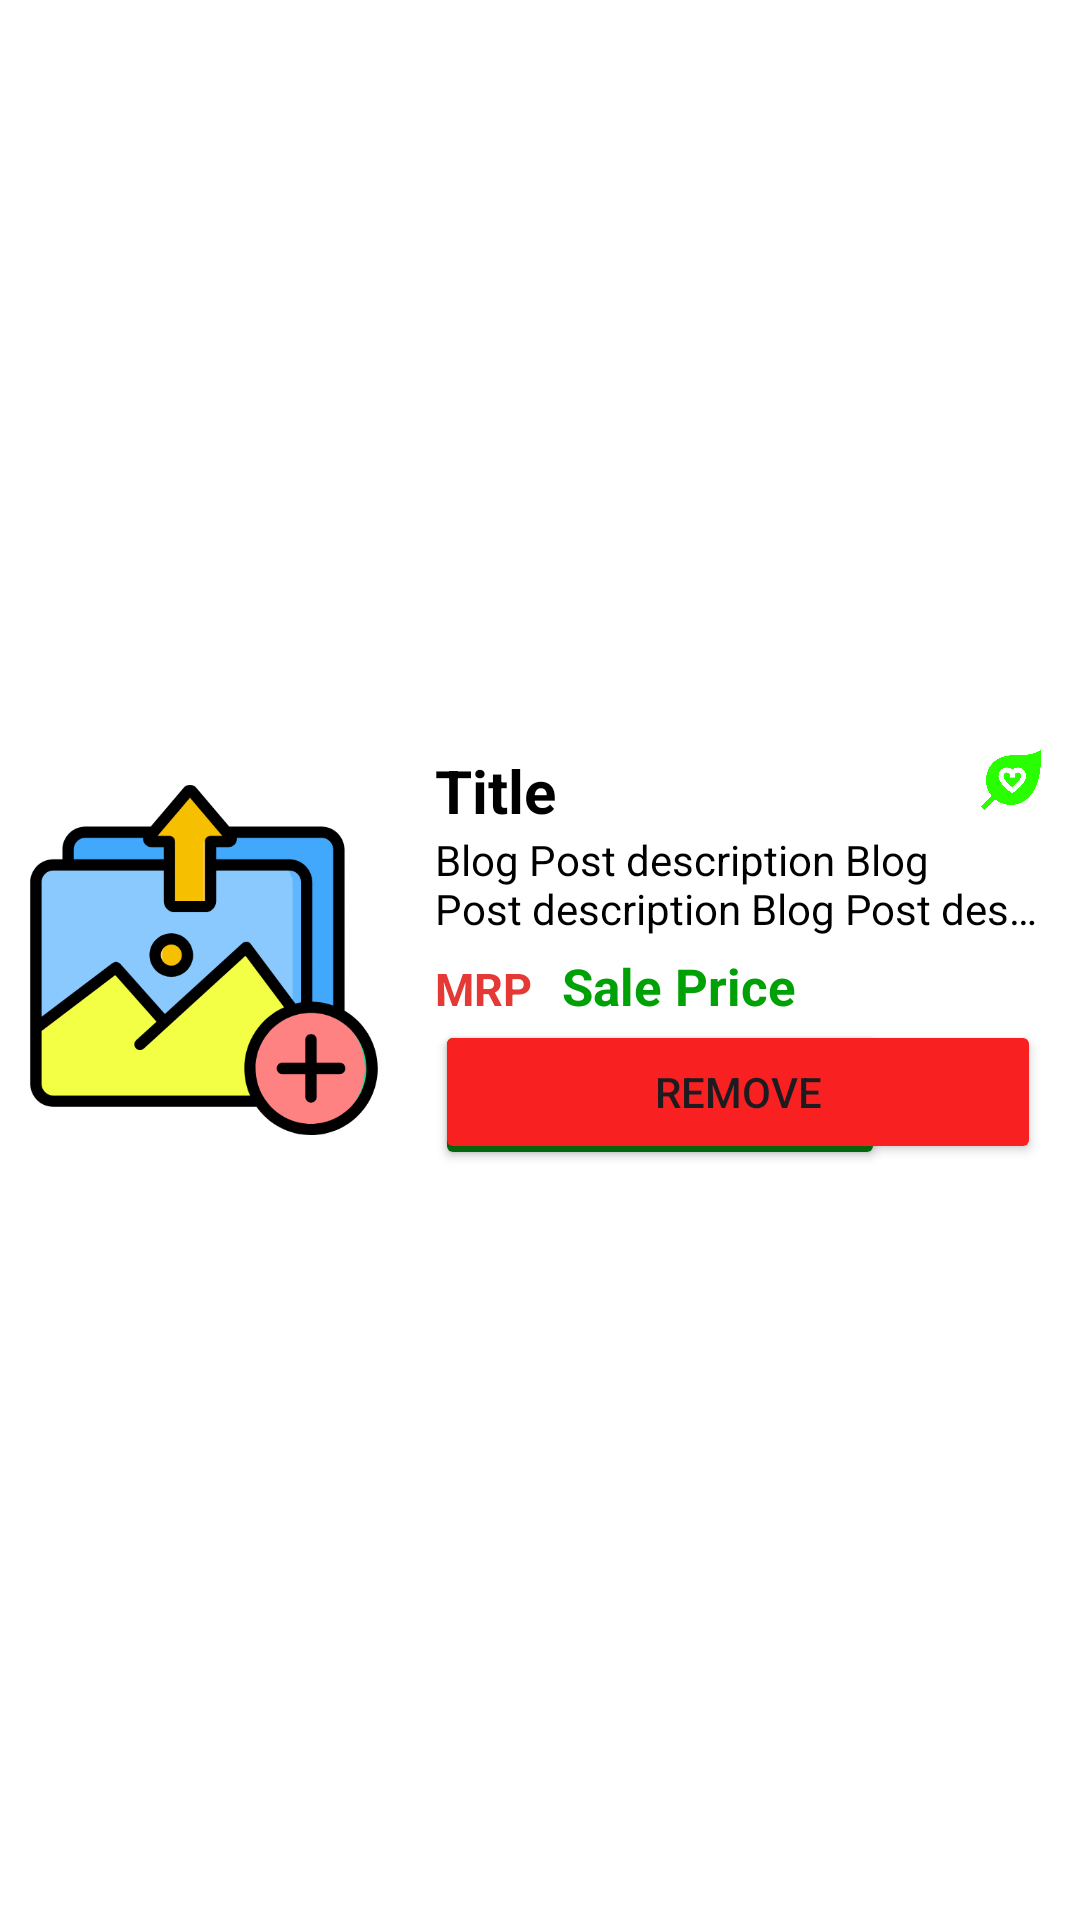

Screen size 1080x1920. Icon name, then its center in pixels as [x,y]:
leafheart: [1011,780]
posting: [204,960]
